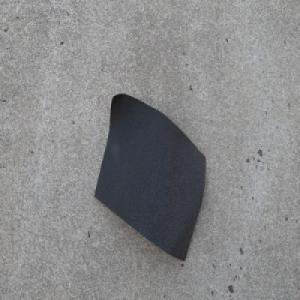PaintChip: (93, 91, 207, 262)
